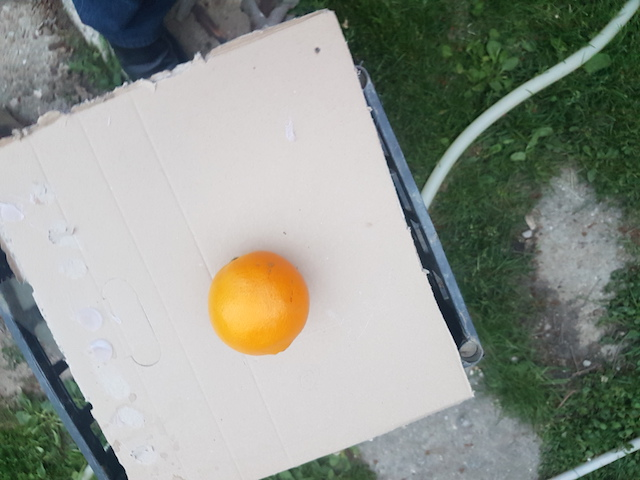orange: (210, 249, 311, 360)
